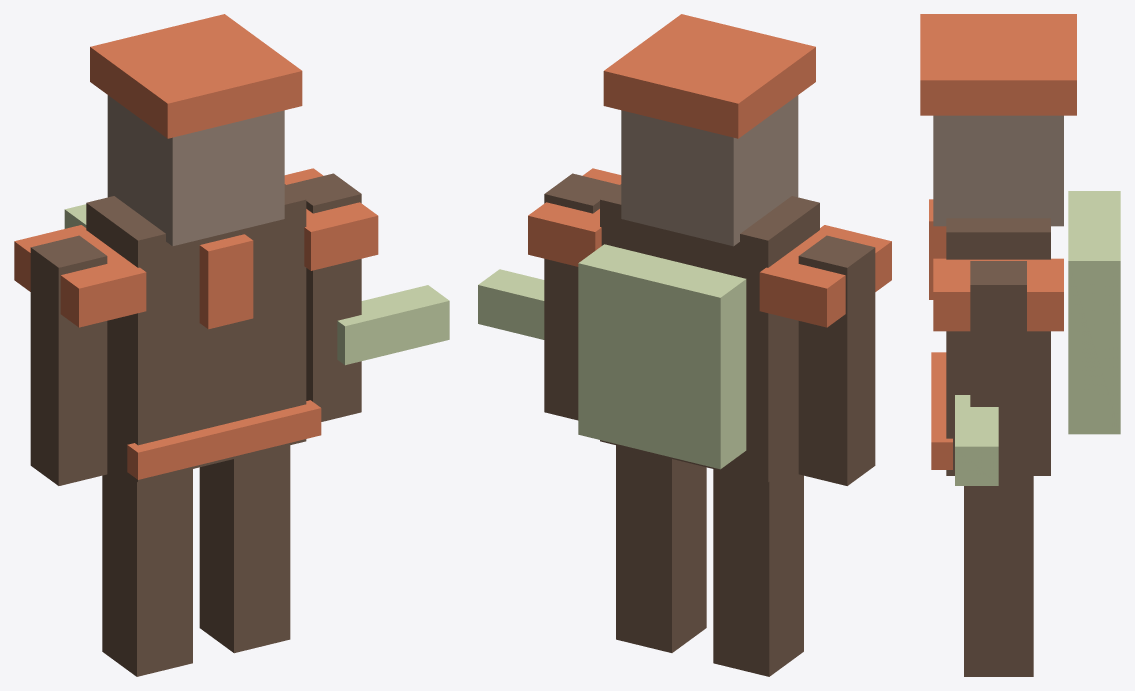
Rendered from 19_kiva_frostrelay_operator_near_wreck.glb.
3 renders of one model, left to right at view 1: azimuth 30°, elevation 25°; view 2: azimuth 150°, elevation 25°; view 3: azimuth 270°, elevation 25°, orthographic.
Visible parts, largest first — view 1: Kiva Frostrelay, Operator near Wreck; view 2: Kiva Frostrelay, Operator near Wreck; view 3: Kiva Frostrelay, Operator near Wreck.
Part boxes in pixels (x1=…): Kiva Frostrelay, Operator near Wreck: x1=14, y1=14, x2=449, y2=676; Kiva Frostrelay, Operator near Wreck: x1=478, y1=14, x2=891, y2=676; Kiva Frostrelay, Operator near Wreck: x1=920, y1=14, x2=1120, y2=676.
Size of the model in its own units: 0.9993 by 1.46 by 0.4485.
